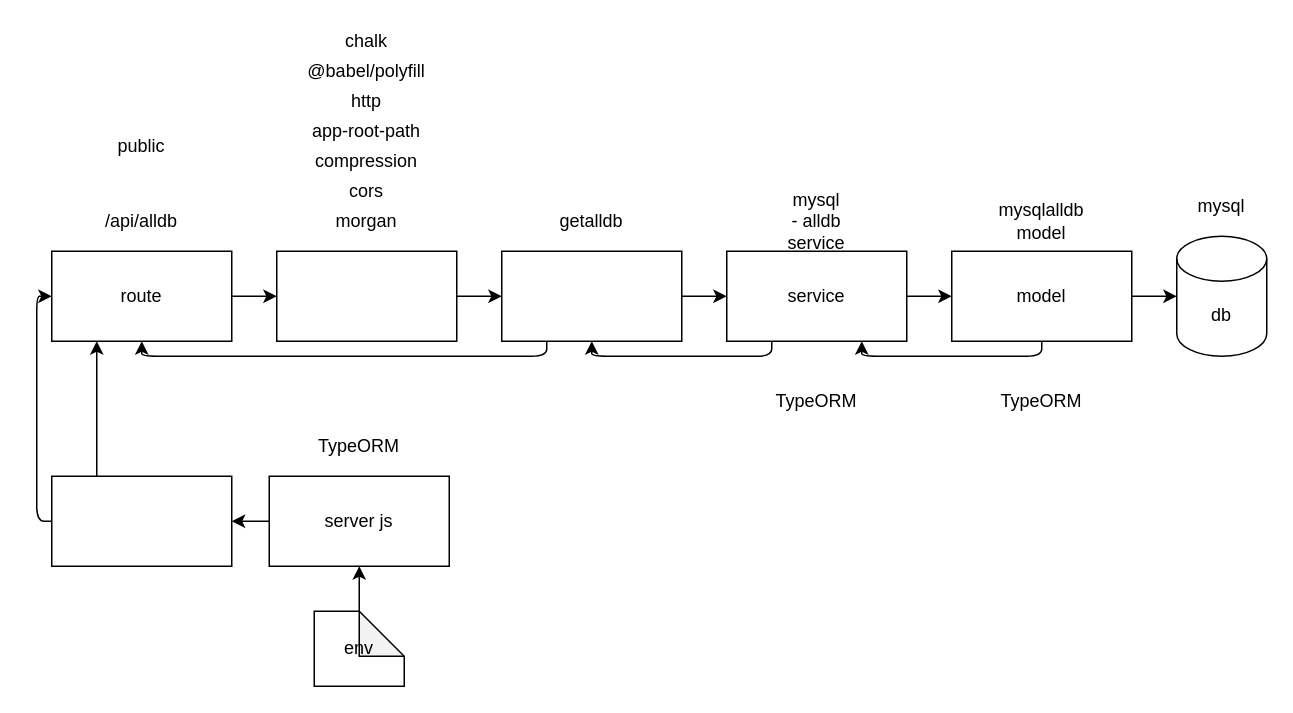
The diagram is 1293 pixels wide and 713 high, and some of its shapes have lost their labels. Each missing label, with the centre of its shape:
"app js" belongs at (x=141, y=520).
"controller" belongs at (x=591, y=295).
"middleware" belongs at (x=366, y=295).
